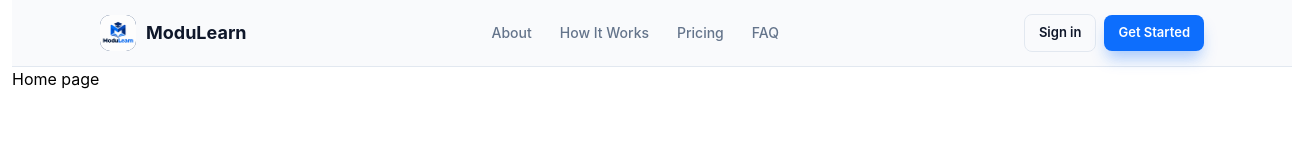
Scenario: Navbar › navigates to login and register
The width and height of the screenshot is (1292, 160).
Click the button "Sign in" at (1060, 33), box [1024, 14, 1096, 52]
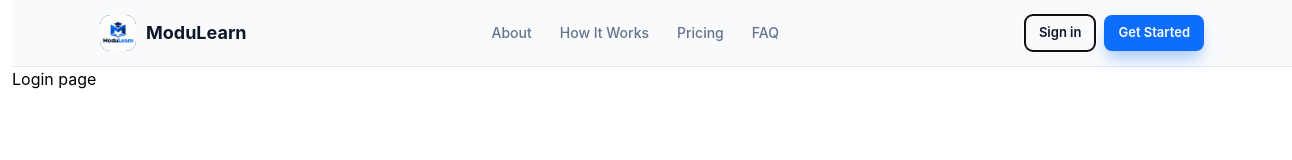
Expected: the text "Login page" is shown, [12, 68, 96, 88]
